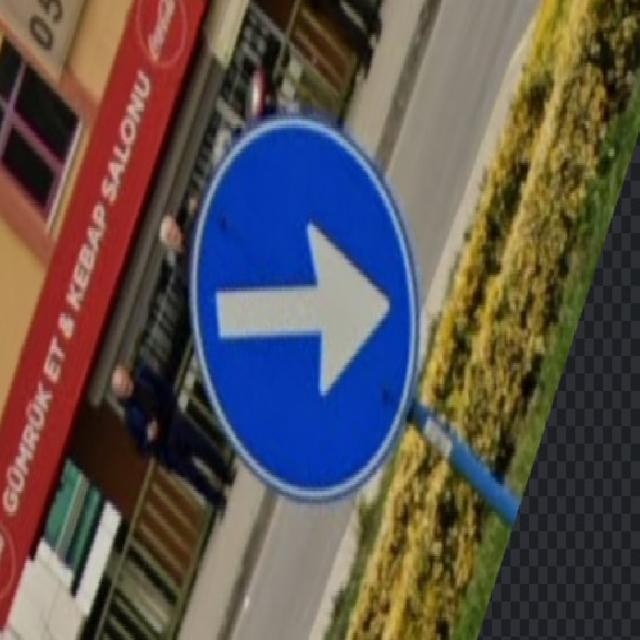Turn Right: (192, 127, 418, 495)
